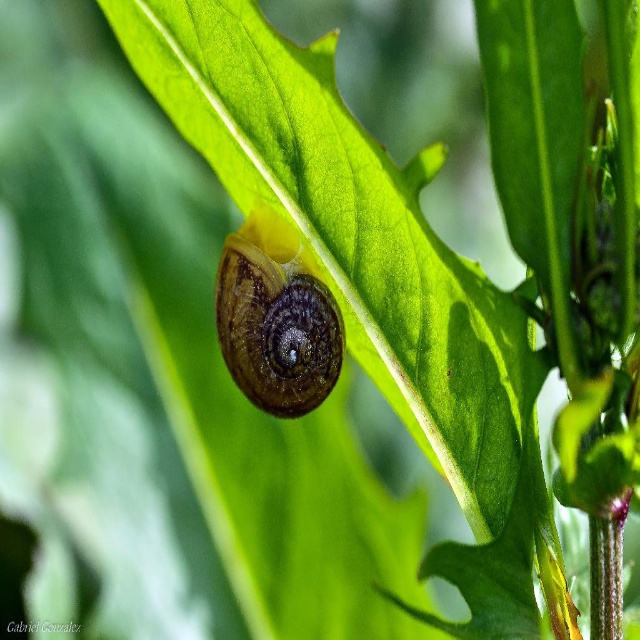Snail: (211, 194, 348, 420)
